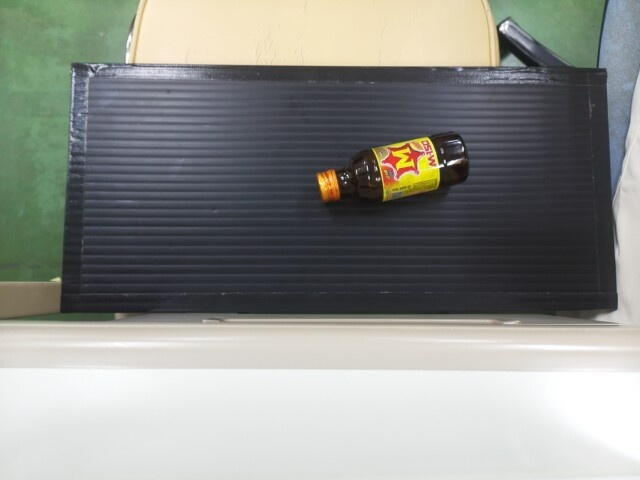glass_bottle: (314, 134, 468, 199)
